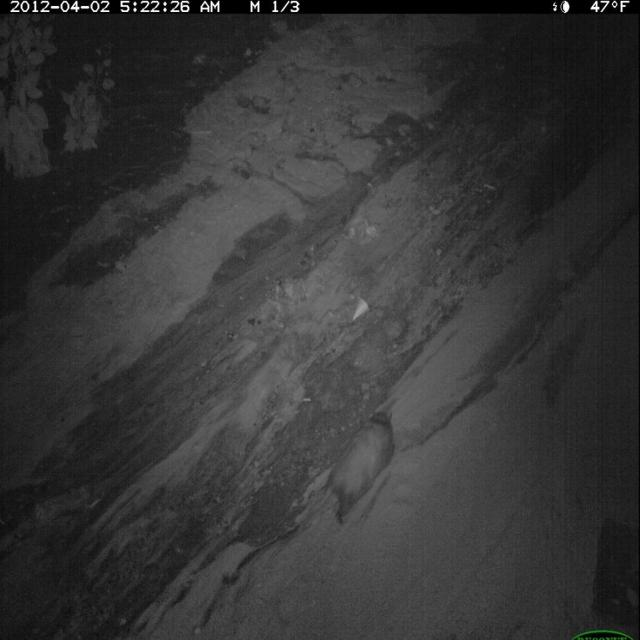opossum: (294, 407, 398, 534)
